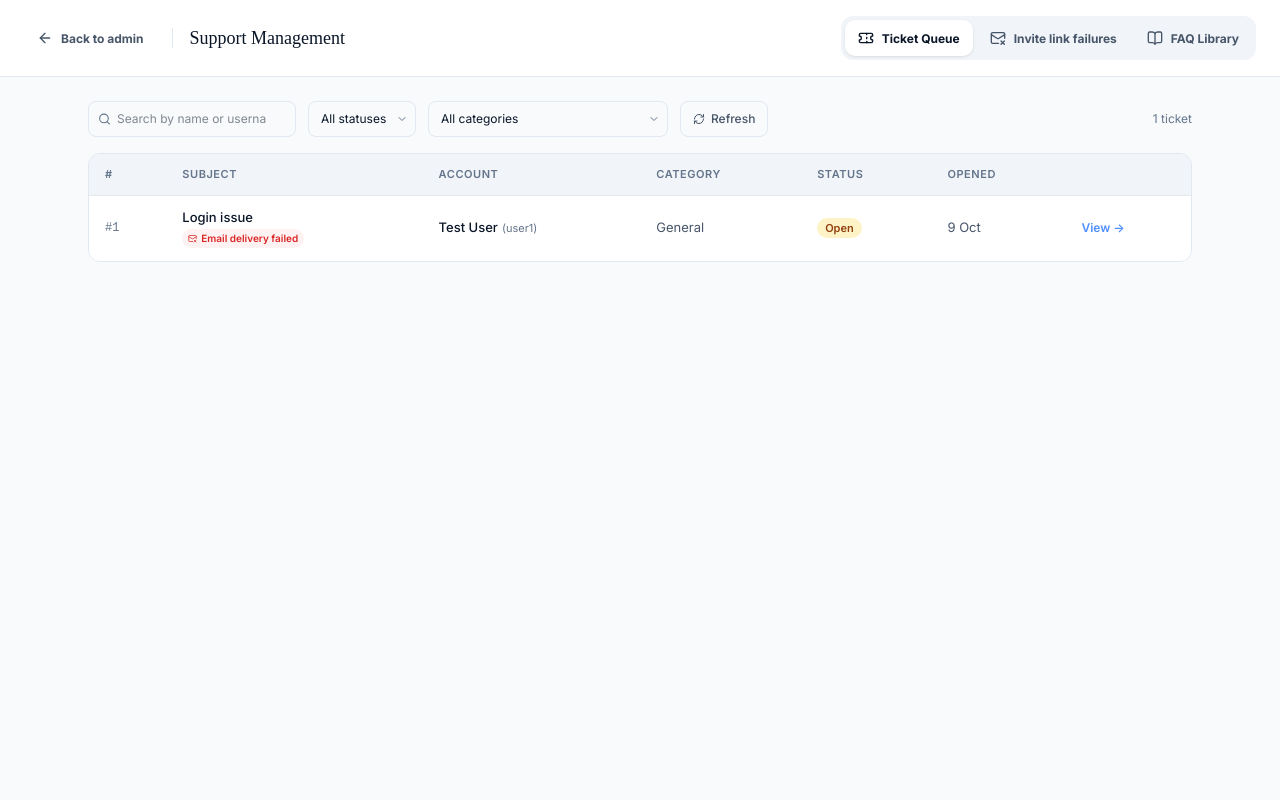
it: SupportAdminPage - email failure banner in detail view › shows the banner and 'Clear flag' button when emailFailed=true
The width and height of the screenshot is (1280, 800).
Click the button "View →" at x=1103, y=228, box [1082, 219, 1125, 237]
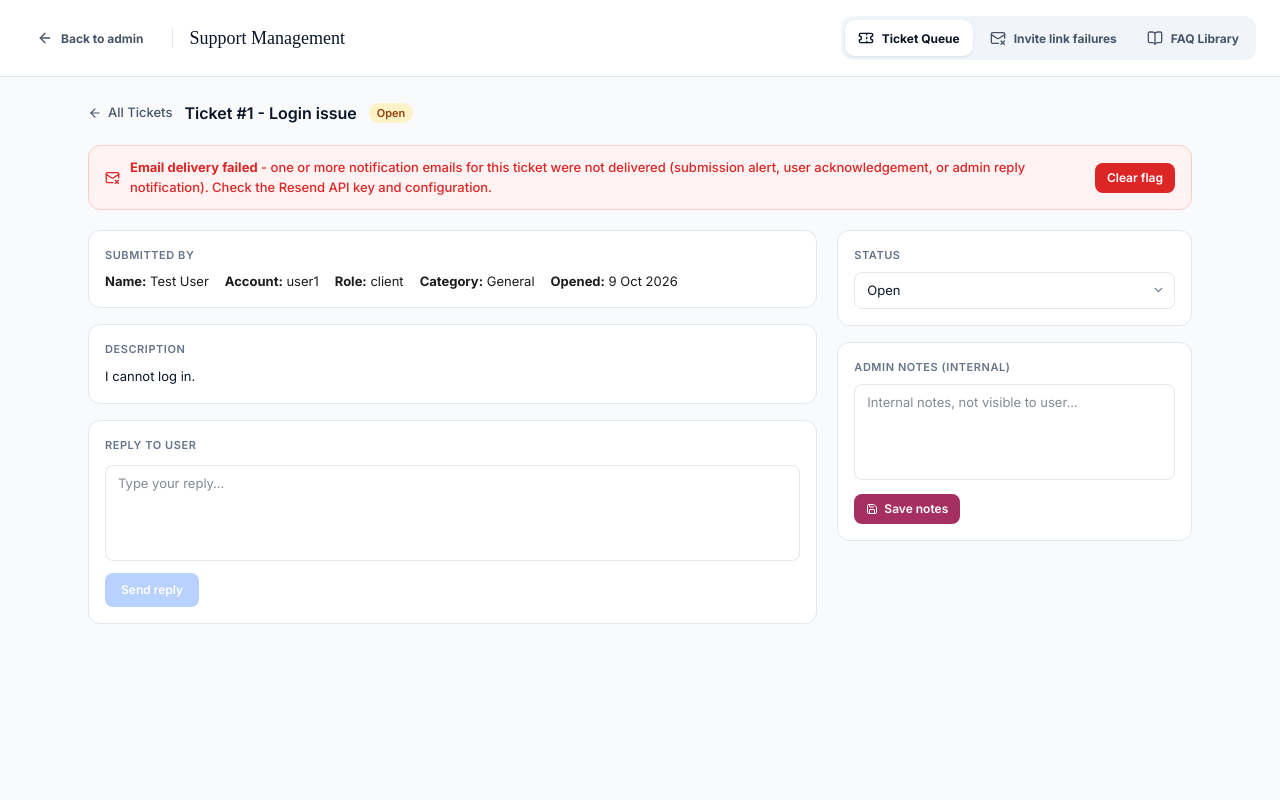
Expected: the text "Email delivery failed" is shown, [130, 159, 258, 175]
Expected: the button "Clear flag" is shown, [1095, 162, 1175, 192]
